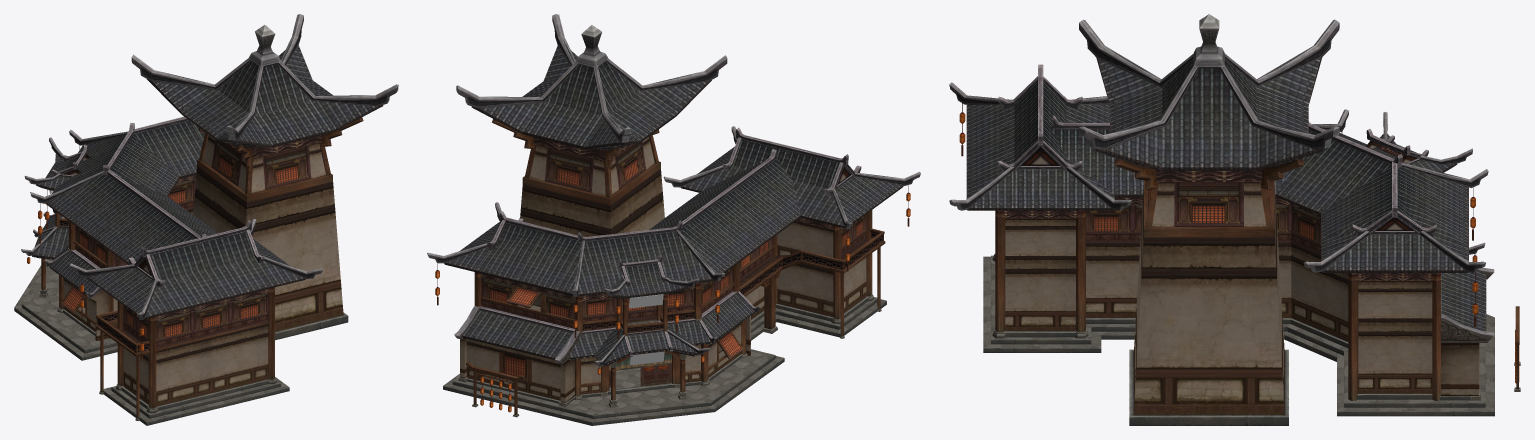
The model's file is s7_unioncity_jianzhu_kezhan02.FBX.
3 renders of one model, left to right at view 1: azimuth 30°, elevation 25°; view 2: azimuth 150°, elevation 25°; view 3: azimuth 270°, elevation 25°, orthographic. The views are drawn at different scales.
Parts seen in each view (by area): view 1: wuzi01, di; view 2: wuzi01, di, paizi; view 3: wuzi01, di.
Part boxes in pixels (x1,y1,x2,y2): wuzi01: [14, 14, 398, 425]; di: [14, 259, 289, 422]; wuzi01: [427, 14, 920, 425]; di: [443, 297, 886, 422]; paizi: [629, 294, 664, 365]; wuzi01: [949, 14, 1520, 425]; di: [983, 255, 1494, 411].
Bounding box in the file's own units: 244 × 215 × 295.
